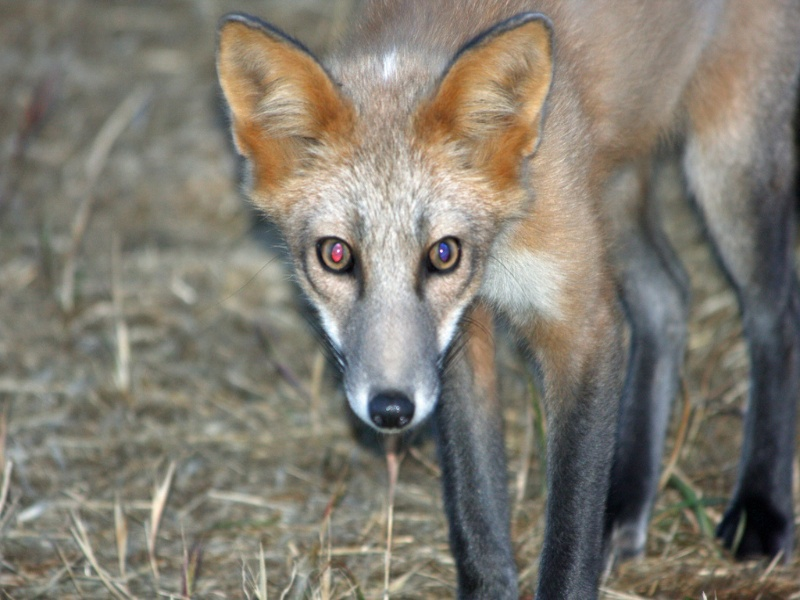fox: (217, 9, 799, 590)
